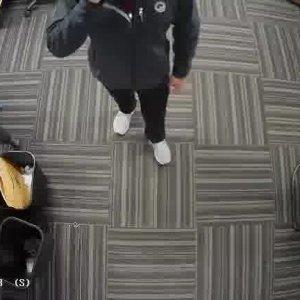person: (68, 0, 196, 163)
